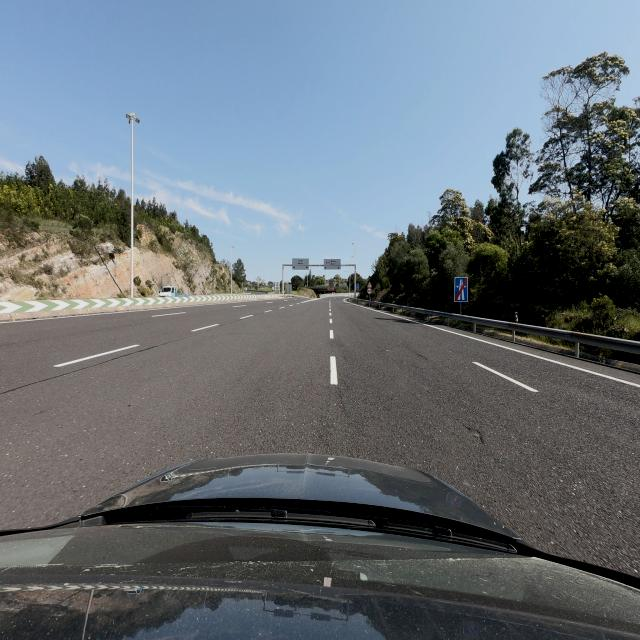car: (158, 285, 181, 298)
